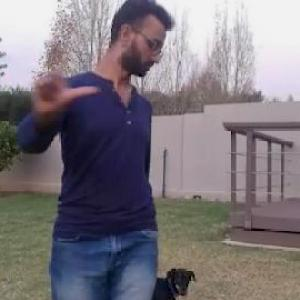land_hand: (24, 25, 102, 109)
